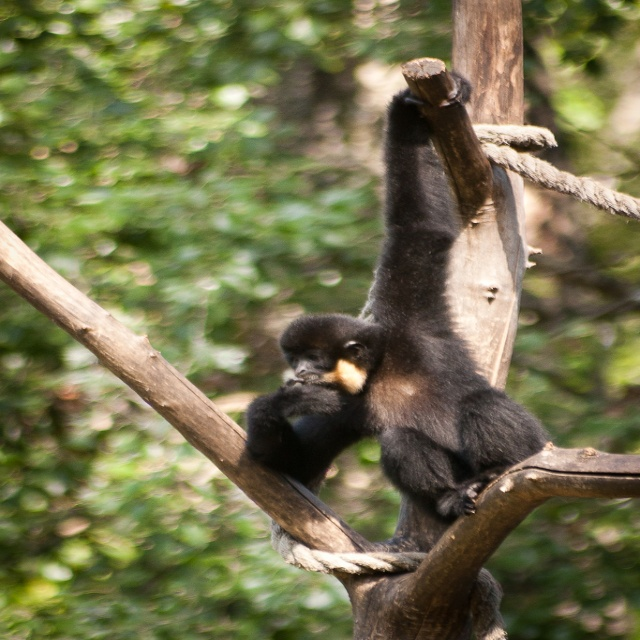Monkey: (244, 72, 549, 521)
